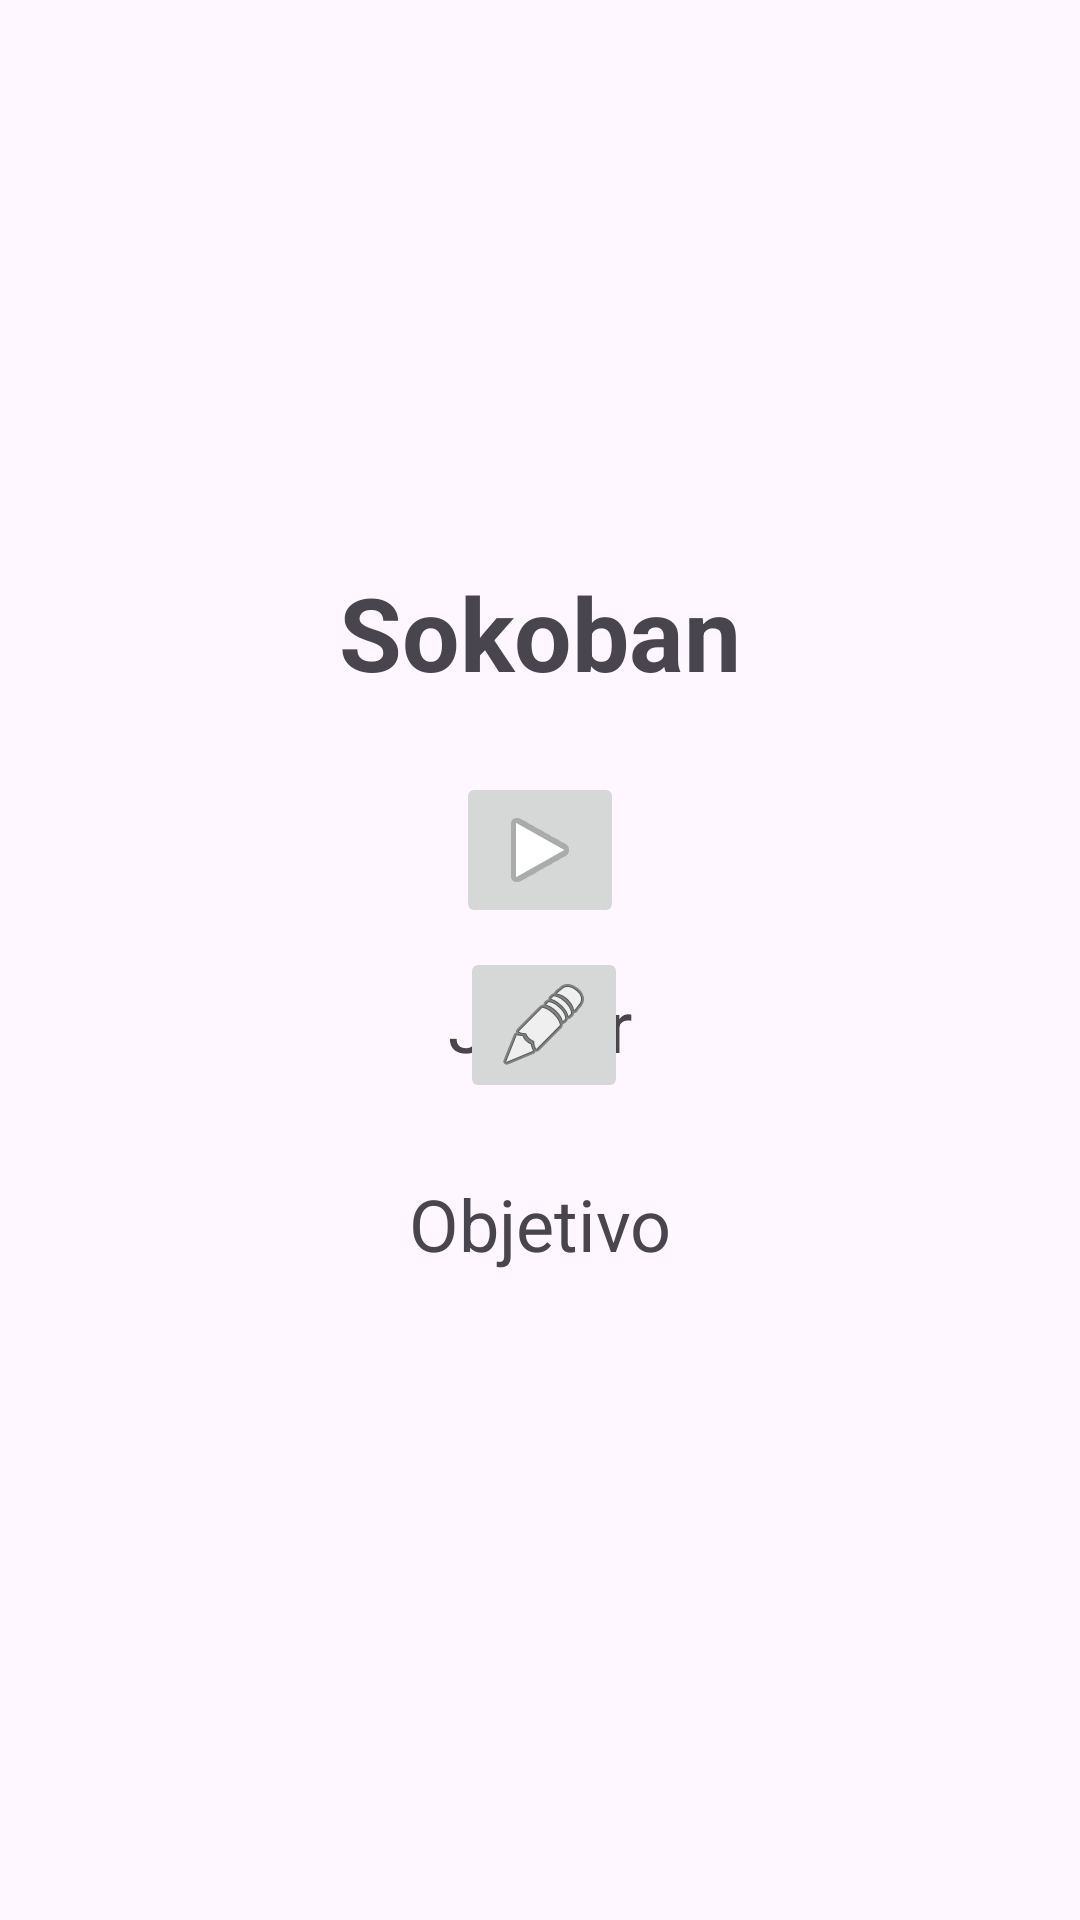

Named icons in this screenshot (1080 × 1920) and their bounding boxes, bbox=[x1, y1, x2, y2]:
play: bbox=[468, 790, 612, 910]
